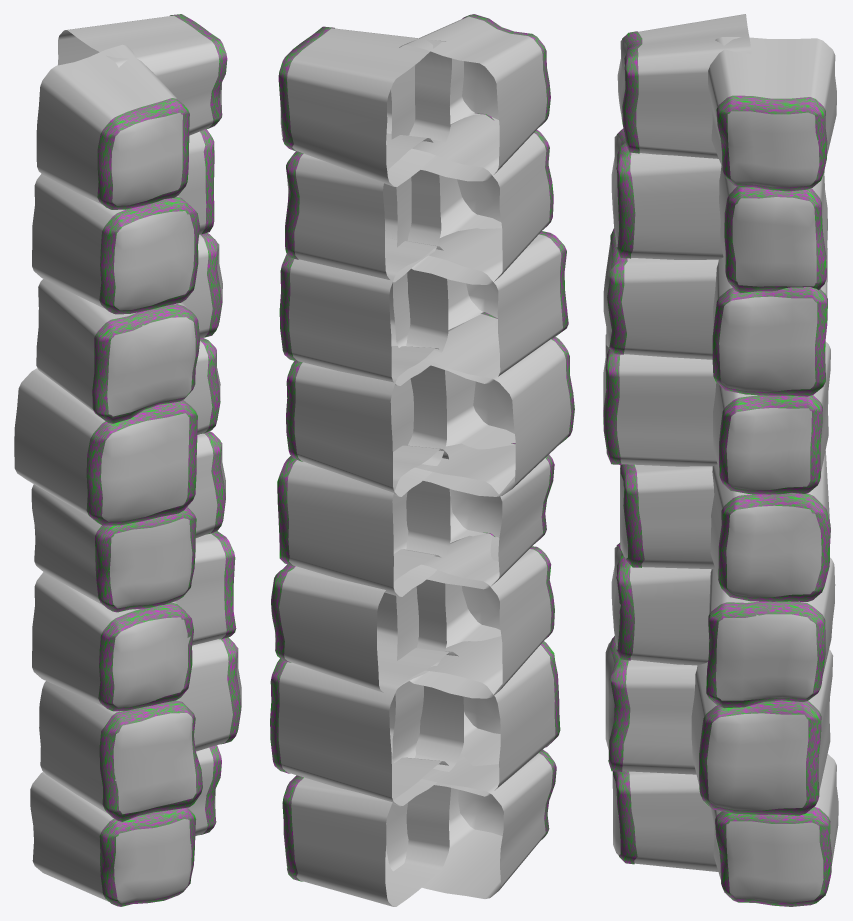
File: SM_planksCornerBarn_a1.fbx
3 views of the same model, side by side, from view 1: azimuth 30°, elevation 25°; view 2: azimuth 150°, elevation 25°; view 3: azimuth 270°, elevation 25° (orthographic). The views are drawn at different scales.
Visible parts, largest first — view 1: SM_planksCornerBarn_a1_LOD0; view 2: SM_planksCornerBarn_a1_LOD0; view 3: SM_planksCornerBarn_a1_LOD0.
Boxes of the visible parts, bbox=[...] form: SM_planksCornerBarn_a1_LOD0: bbox=[14, 14, 241, 906]; SM_planksCornerBarn_a1_LOD0: bbox=[270, 14, 574, 906]; SM_planksCornerBarn_a1_LOD0: bbox=[603, 14, 838, 906].
Size of the model in its own units: 54.39 by 52.04 by 202.
Materials: 3 (1 with a texture image).
